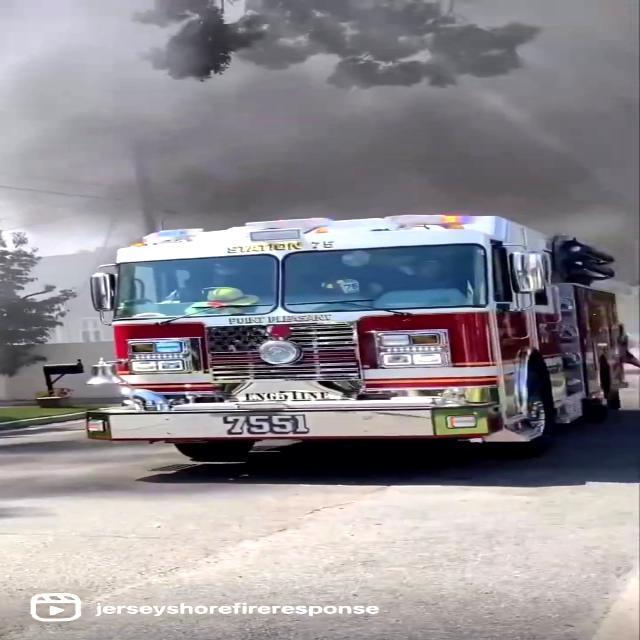Smoke: (0, 0, 613, 243)
